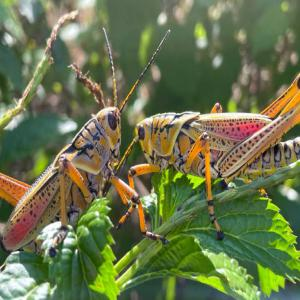locust: (1, 102, 129, 279), (139, 87, 300, 193)
